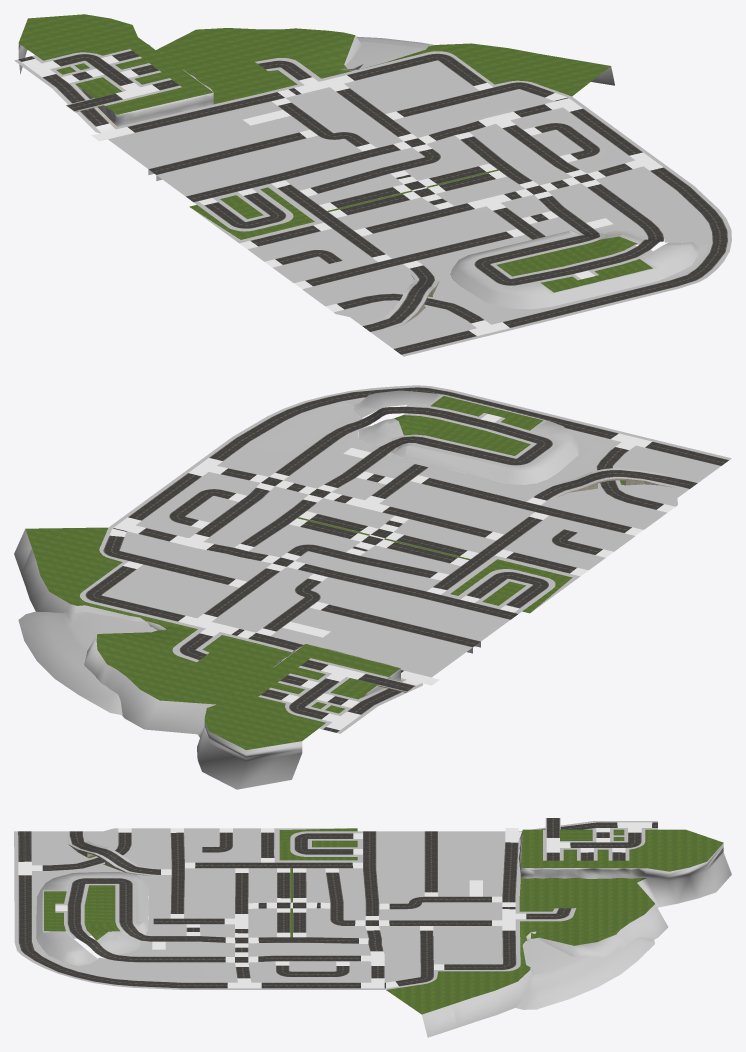
File: map_3.fbx
The picture shows the model from 3 angles, top to bottom: view 1: azimuth 30°, elevation 25°; view 2: azimuth 150°, elevation 25°; view 3: azimuth 270°, elevation 25°; orthographic projection. The views are drawn at different scales.
Parts seen in each view (by area): view 1: road, TerrainBorderRoad, TerrainFloor, TerrainBorderRoad_001, rock_borderNew, sandMud_1; view 2: road, TerrainBorderRoad, TerrainFloor, TerrainBorderRoad_001, rock_borderNew, sandMud_1; view 3: road, TerrainBorderRoad, TerrainFloor, TerrainBorderRoad_001, rock_borderNew, sandMud_1.
Boxes of the visible parts, box(x1,y1,x2,y2) form: road: box(18, 50, 727, 354); TerrainBorderRoad: box(32, 52, 708, 347); TerrainFloor: box(18, 14, 652, 307); TerrainBorderRoad_001: box(14, 49, 731, 356); rock_borderNew: box(18, 35, 699, 309); sandMud_1: box(341, 36, 434, 70); road: box(85, 387, 728, 732); TerrainBorderRoad: box(111, 399, 718, 728); TerrainFloor: box(25, 396, 625, 749); TerrainBorderRoad_001: box(80, 385, 731, 733); rock_borderNew: box(14, 390, 578, 789); sandMud_1: box(18, 611, 166, 715); road: box(18, 818, 657, 988); TerrainBorderRoad: box(35, 828, 657, 981); TerrainFloor: box(44, 828, 723, 1014); TerrainBorderRoad_001: box(14, 818, 657, 989); rock_borderNew: box(36, 830, 731, 1037); sandMud_1: box(515, 931, 654, 1009).
Bounding box in the file's own units: 52933 × 3994 × 84743.
